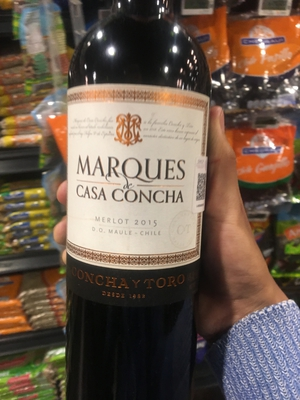marques de casa concha merlot: (59, 6, 230, 380)
